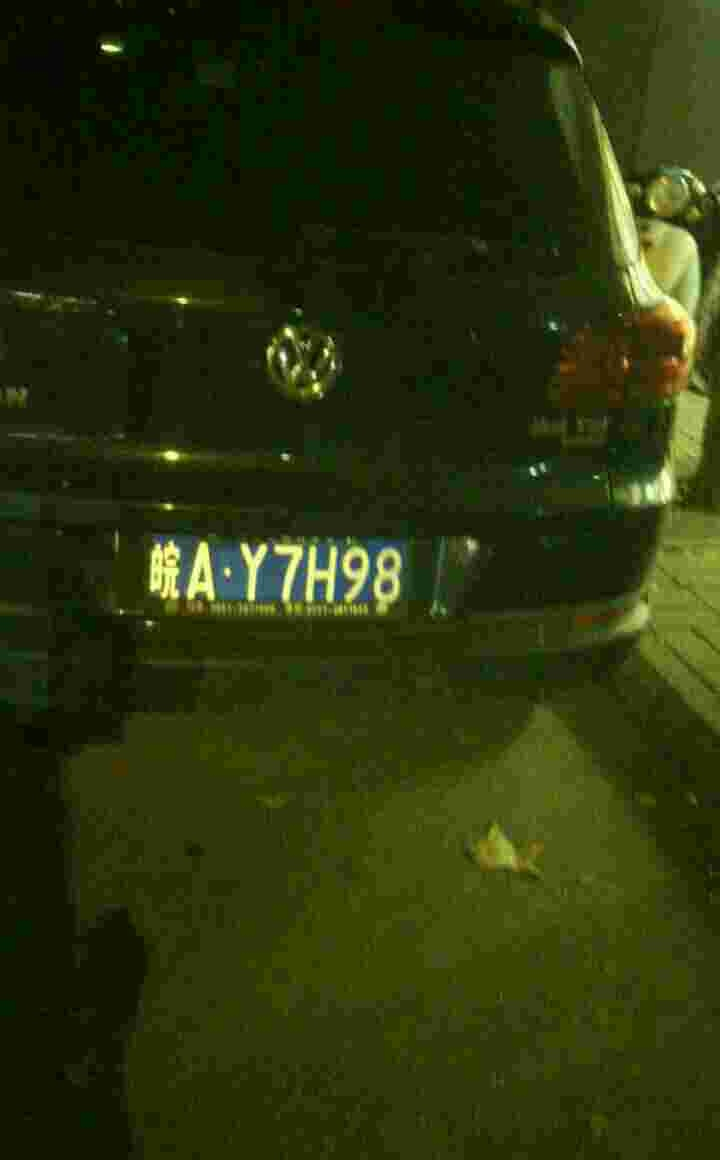plate: (146, 524, 421, 622)
